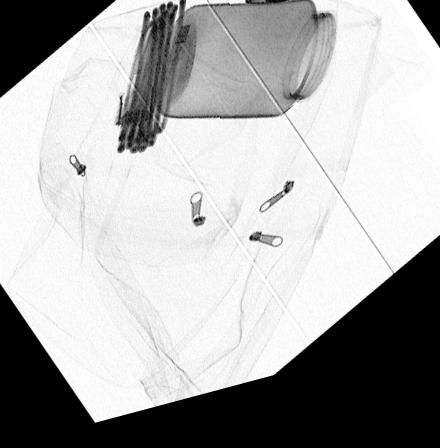Bullet: (243, 5, 293, 20)
